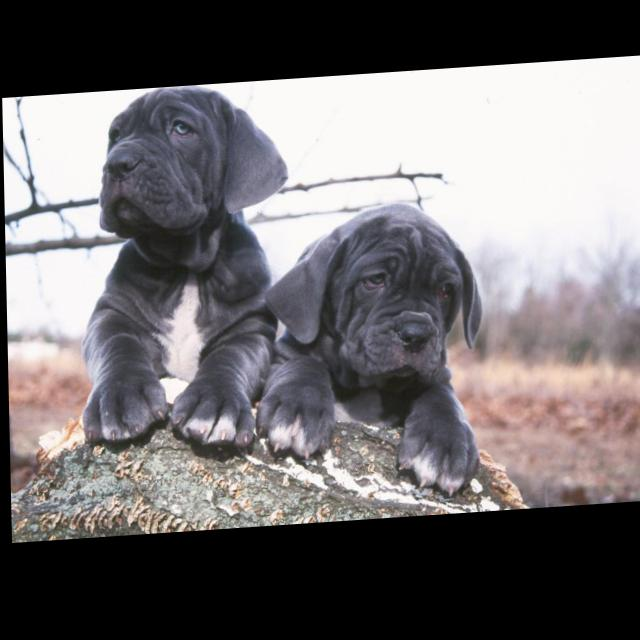mastino_napoletano: (74, 83, 292, 462), (249, 203, 484, 513)
